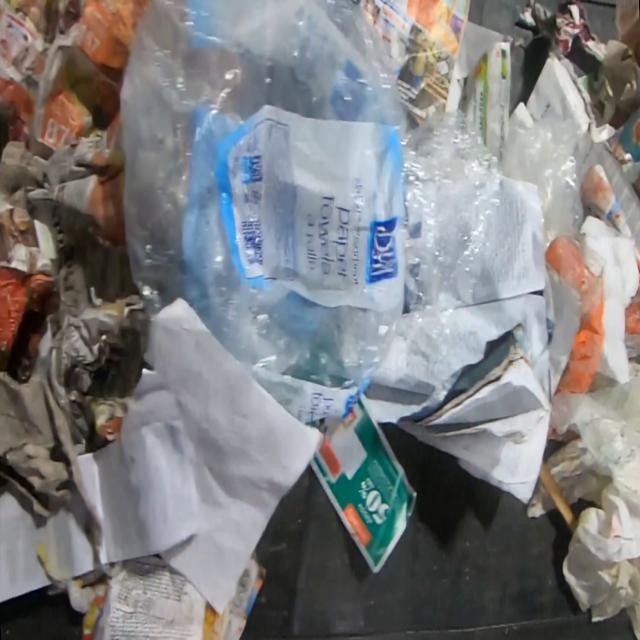cardboard: (0, 262, 152, 555), (44, 550, 268, 639), (403, 324, 552, 426)
soft_plastic: (116, 0, 504, 428), (500, 115, 605, 329)
